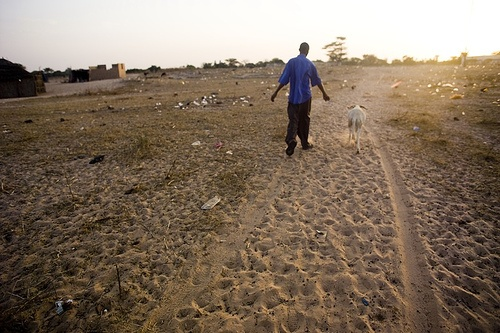head: (299, 42, 312, 57)
person: (268, 42, 329, 155)
